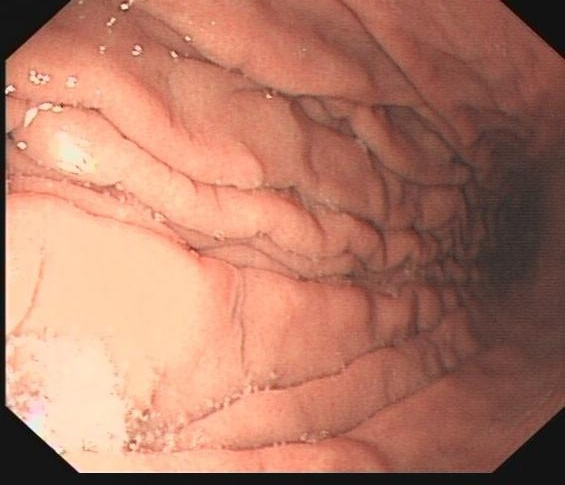Polyp: (221, 143, 273, 202)
